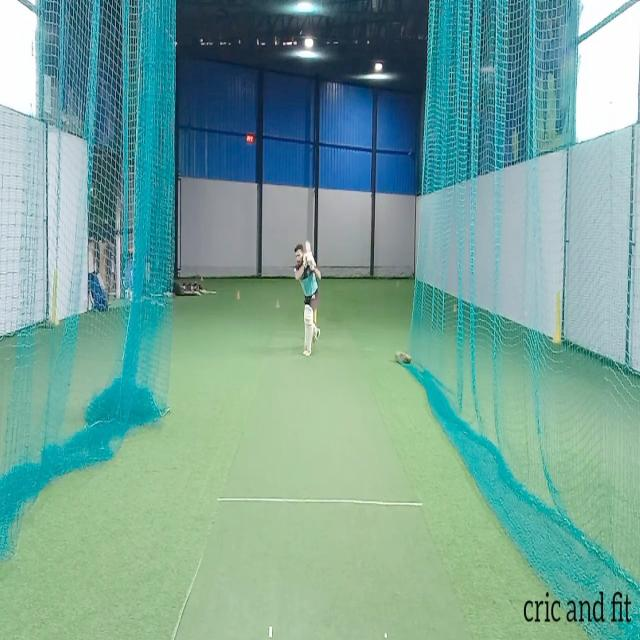batsman: (293, 240, 322, 357)
